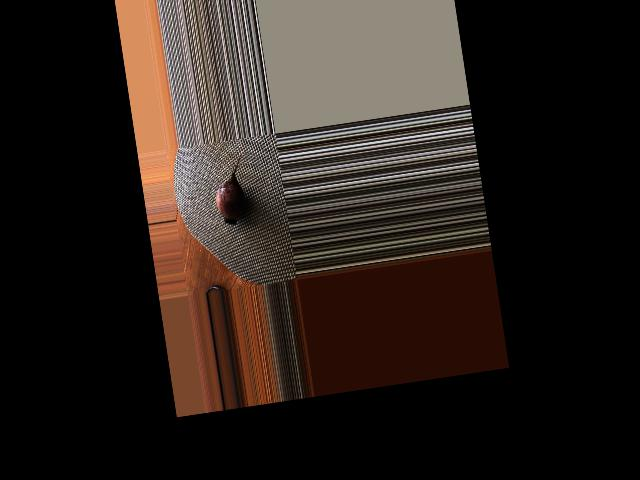beet: (209, 150, 255, 227)
